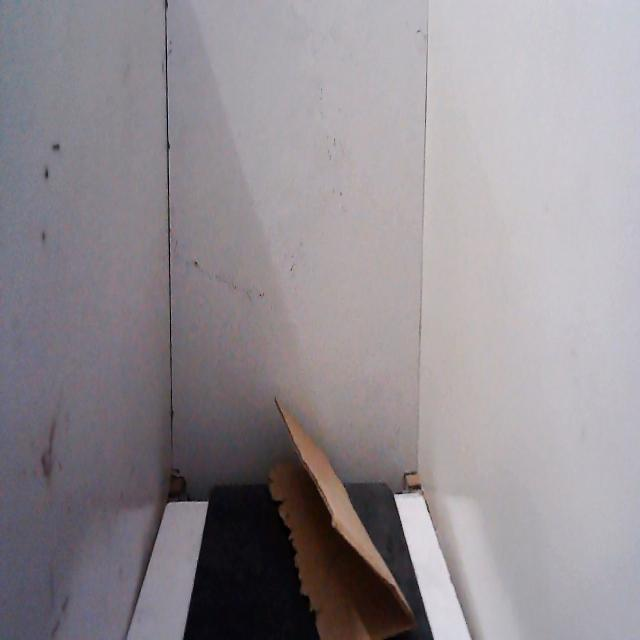papel: (262, 388, 420, 640)
